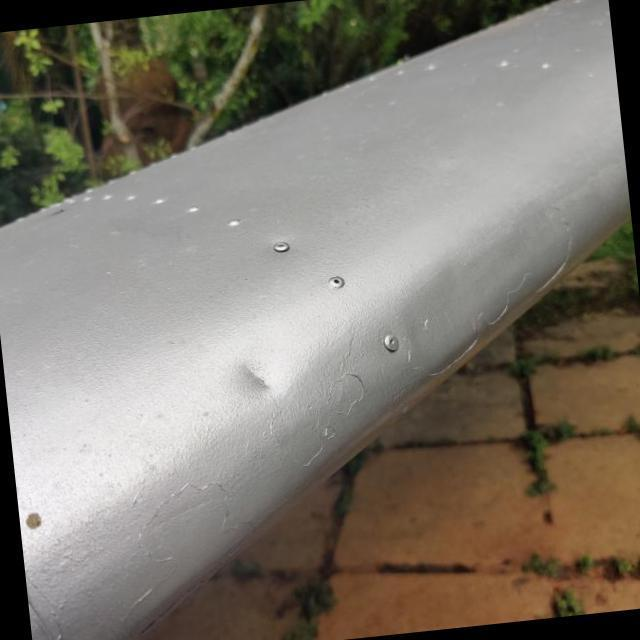Dent: (200, 324, 306, 430)
